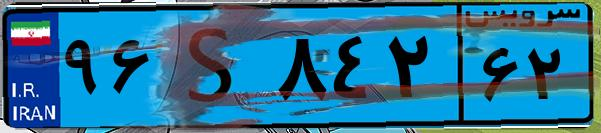2: (385, 28, 445, 110), (525, 38, 570, 115)
4: (330, 28, 385, 110)
6: (475, 38, 525, 113), (110, 28, 158, 98)
8: (270, 28, 330, 110)
9: (57, 26, 110, 100)
S: (158, 12, 270, 120)
